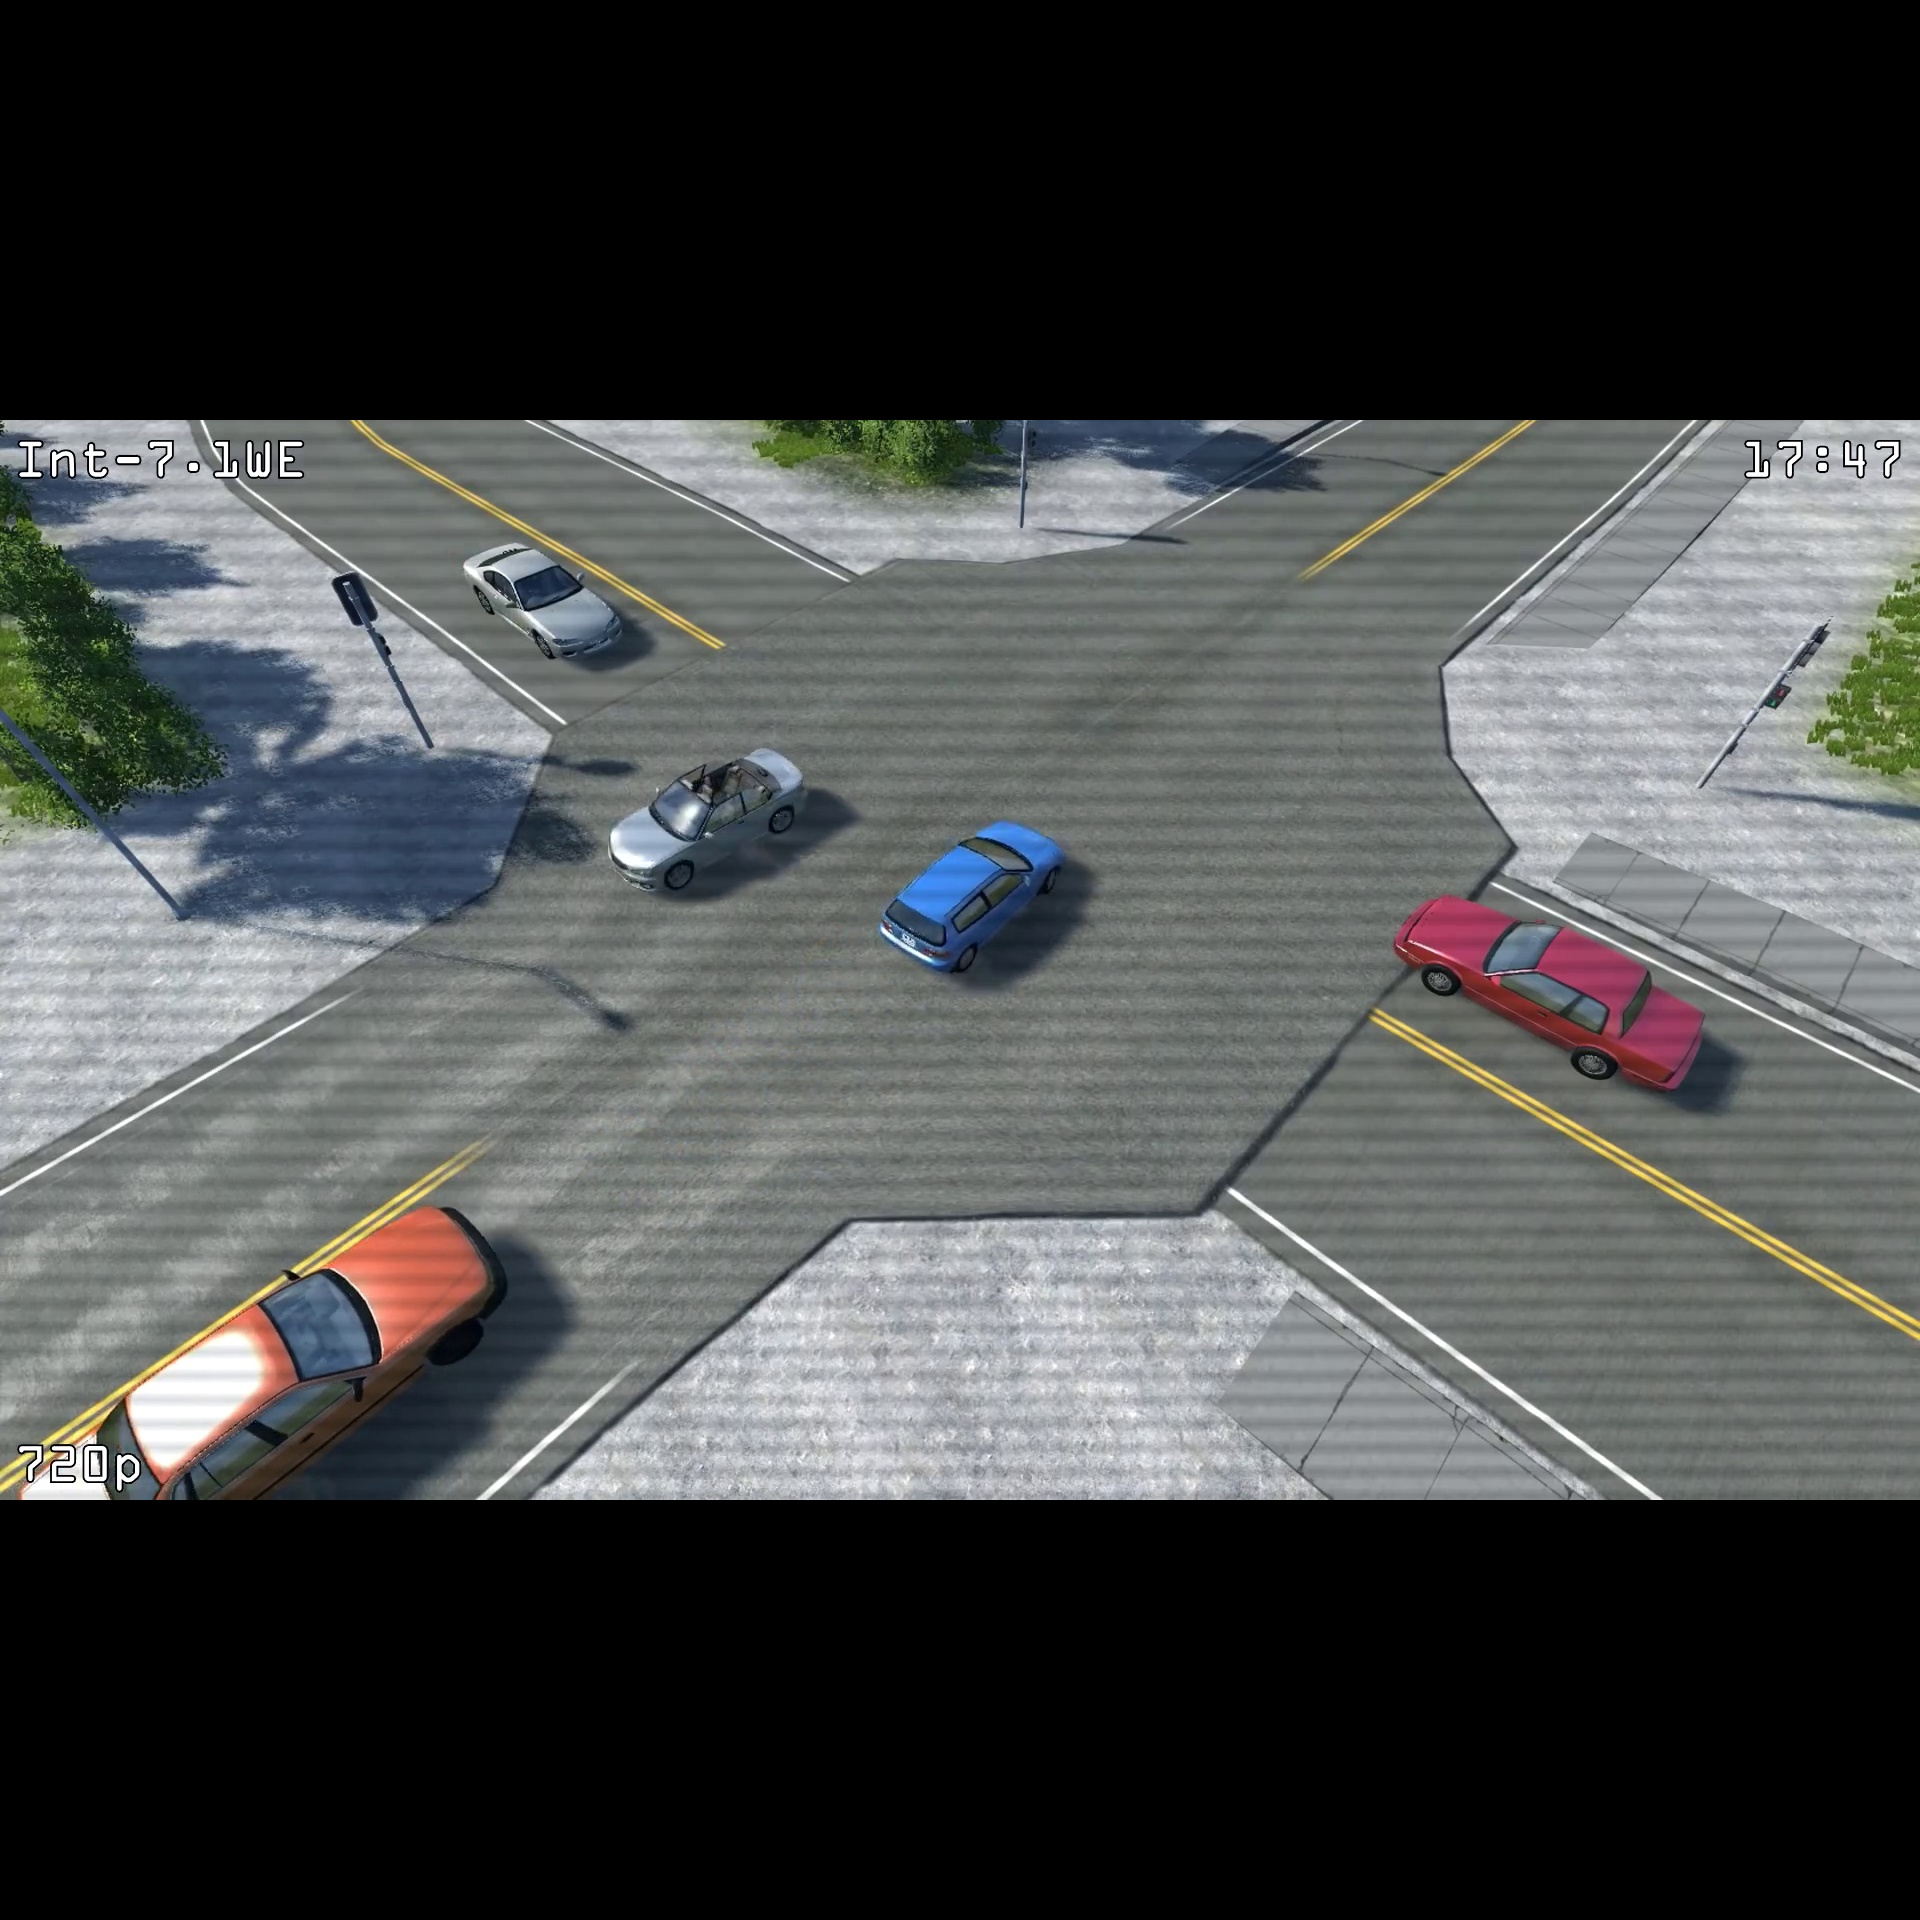vehicle: (12, 1189, 517, 1502), (1387, 877, 1718, 1101), (594, 737, 812, 904), (872, 812, 1069, 978), (454, 529, 624, 666)
